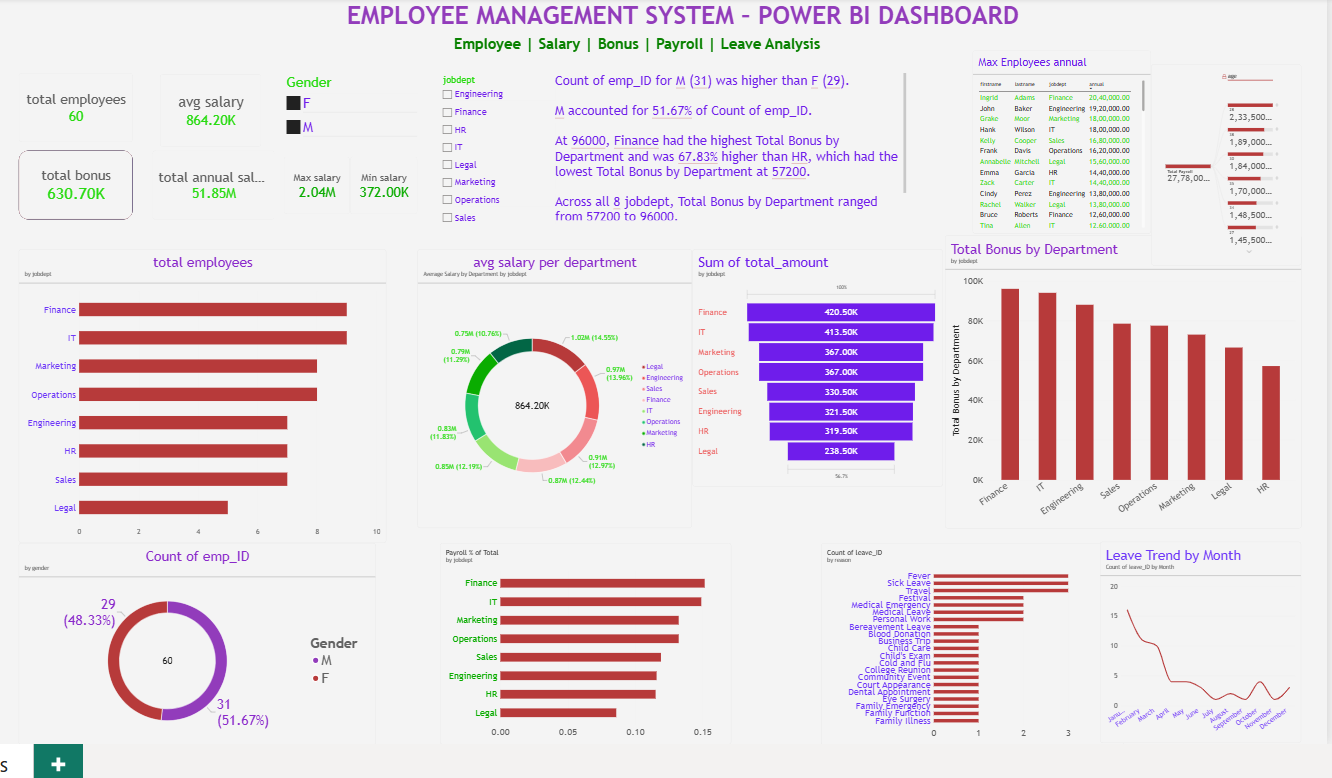

The page's visual inventory and layout, read from the dashboard file:
{"tool":"powerbi","page":{"name":"Employee Management System","canvas":[3840,2160],"ordinal":0},"visuals":[{"type":"cardVisual","fields":{"Data":["employee.total bonus"]},"box":[53.3,443.3,330,200],"z":0},{"type":"cardVisual","fields":{"Data":["employee.avg salary"]},"box":[463.3,220,293.3,210],"z":1000},{"type":"barChart","fields":{"Category":["jobdepartment.jobdept"],"Y":["employee.total employees"]},"box":[54.3,727.5,1064.1,850.5],"z":2000},{"type":"donutChart","title":"avg salary per department","fields":{"Category":["jobdepartment.jobdept"],"Y":["employee.Average Salary by Department"]},"box":[1210.3,728.6,794.5,806.9],"z":3000},{"type":"clusteredColumnChart","fields":{"Category":["jobdepartment.jobdept"],"Y":["employee.Total Bonus by Department"]},"box":[2737.6,687.5,1033,848],"z":4000},{"type":"donutChart","fields":{"Category":["employee.gender"],"Y":["CountNonNull(employee.emp_ID)"]},"box":[53.5,1576.7,1033.3,584.6],"z":5000},{"type":"barChart","fields":{"Category":["leaves.reason"],"Y":["CountNonNull(leaves.leave_ID)"]},"box":[2376.7,1576.7,876.8,584.6],"z":6000},{"type":"funnel","fields":{"Category":["jobdepartment.jobdept"],"Y":["Sum(payroll.total_amount)"]},"box":[2004.8,728.6,724.5,687.5],"z":7000},{"type":"slicer","fields":{"Values":["jobdepartment.jobdept"]},"box":[1273.3,220,333.3,466.7],"z":8000},{"type":"slicer","title":"Gender","fields":{"Values":["employee.gender"]},"box":[820,220,386.7,223.3],"z":9000},{"type":"textbox","box":[54.3,7.2,3785.8,209.9],"z":10000},{"type":"cardVisual","fields":{"Data":["employee.total employees"]},"box":[53.3,216.7,330,200],"z":11000},{"type":"cardVisual","fields":{"Data":["employee.total annual salary"]},"box":[440,443.3,353.3,200],"z":12000},{"type":"textbox","box":[1606.7,216.7,1016.7,426.7],"z":13000},{"type":"barChart","fields":{"Category":["jobdepartment.jobdept"],"Y":["employee.Payroll % of Total"]},"box":[1273.3,1576.7,843.3,583.3],"z":14000},{"type":"tableEx","title":"Max Enployees annual","fields":{"Values":["employee.firstname","employee.lastname","jobdepartment.jobdept","salarybonus.annual"]},"box":[2815.8,152,516.7,530],"z":15000},{"type":"lineChart","title":"Leave Trend by Month","fields":{"Category":["leaves.date.Variation.Date Hierarchy.Month"],"Y":["CountNonNull(leaves.leave_ID)"]},"box":[3185,1574.4,582.7,582.7],"z":16000},{"type":"decompositionTreeVisual","fields":{"Analyze":["employee.Total Payroll"],"ExplainBy":["employee.age","employee.gender","jobdepartment.Job_ID"]},"box":[3333.4,191.8,434.3,582.7],"z":17000},{"type":"cardVisual","fields":{"Data":["employee.Max salary"]},"box":[821.6,459.7,191.8,166.5],"z":18000},{"type":"cardVisual","fields":{"Data":["employee.Min salary"]},"box":[1013.4,459.7,195.4,166.5],"z":19000}]}

Visuals, with their boxes on the page's 3840x2160 design canvas (x1, y1, x2, y2). These are canvas units, not pixel positions in the 1332x778 screenshot, which may show the page scaled, cropped or inside an application window:
cardVisual - employee.total bonus: <box>53,443,383,643</box>
cardVisual - employee.avg salary: <box>463,220,757,430</box>
barChart - jobdepartment.jobdept x employee.total employees: <box>54,728,1118,1578</box>
"avg salary per department" donutChart: <box>1210,729,2005,1536</box>
clusteredColumnChart - jobdepartment.jobdept x employee.Total Bonus by Department: <box>2738,688,3771,1536</box>
donutChart - employee.gender x CountNonNull(employee.emp_ID): <box>54,1577,1087,2161</box>
barChart - leaves.reason x CountNonNull(leaves.leave_ID): <box>2377,1577,3254,2161</box>
funnel - jobdepartment.jobdept x Sum(payroll.total_amount): <box>2005,729,2729,1416</box>
slicer - jobdepartment.jobdept: <box>1273,220,1607,687</box>
"Gender" slicer: <box>820,220,1207,443</box>
textbox: <box>54,7,3840,217</box>
cardVisual - employee.total employees: <box>53,217,383,417</box>
cardVisual - employee.total annual salary: <box>440,443,793,643</box>
textbox: <box>1607,217,2623,643</box>
barChart - jobdepartment.jobdept x employee.Payroll % of Total: <box>1273,1577,2117,2160</box>
"Max Enployees annual" tableEx: <box>2816,152,3332,682</box>
"Leave Trend by Month" lineChart: <box>3185,1574,3768,2157</box>
decompositionTreeVisual - employee.Total Payroll x employee.age: <box>3333,192,3768,774</box>
cardVisual - employee.Max salary: <box>822,460,1013,626</box>
cardVisual - employee.Min salary: <box>1013,460,1209,626</box>
